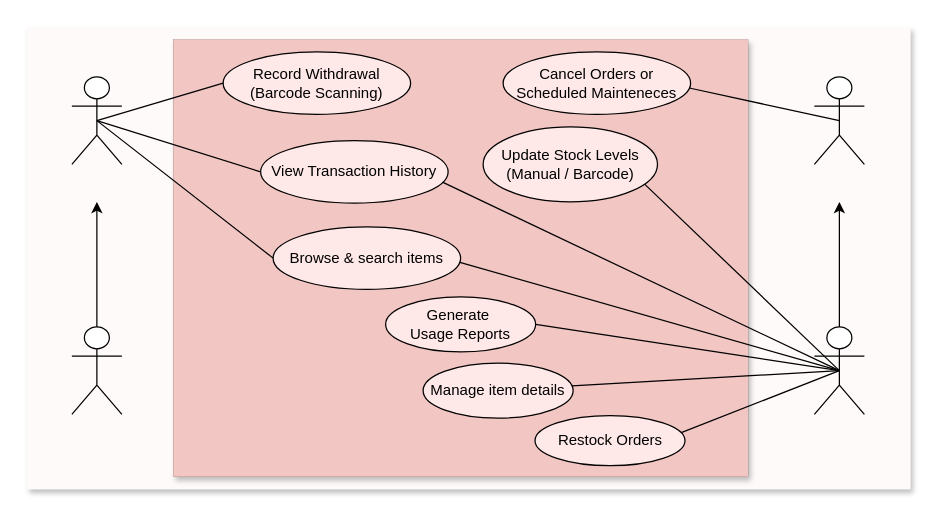
This 939x519 diagram has some shape labels left out. The centre of each missing label's shape, as x and y in pixels:
"Admin" belongs at (838,120).
"Inventory Manager" belongs at (838,370).
"Maintenance Staff" belongs at (96,120).
"Store Keeper" belongs at (96,370).
